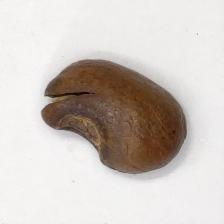NG: (40, 84, 116, 170)
